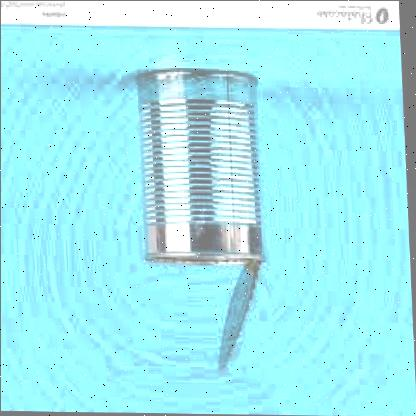Can: (132, 60, 272, 380)
